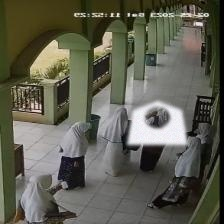Mukena: (127, 101, 187, 144)
